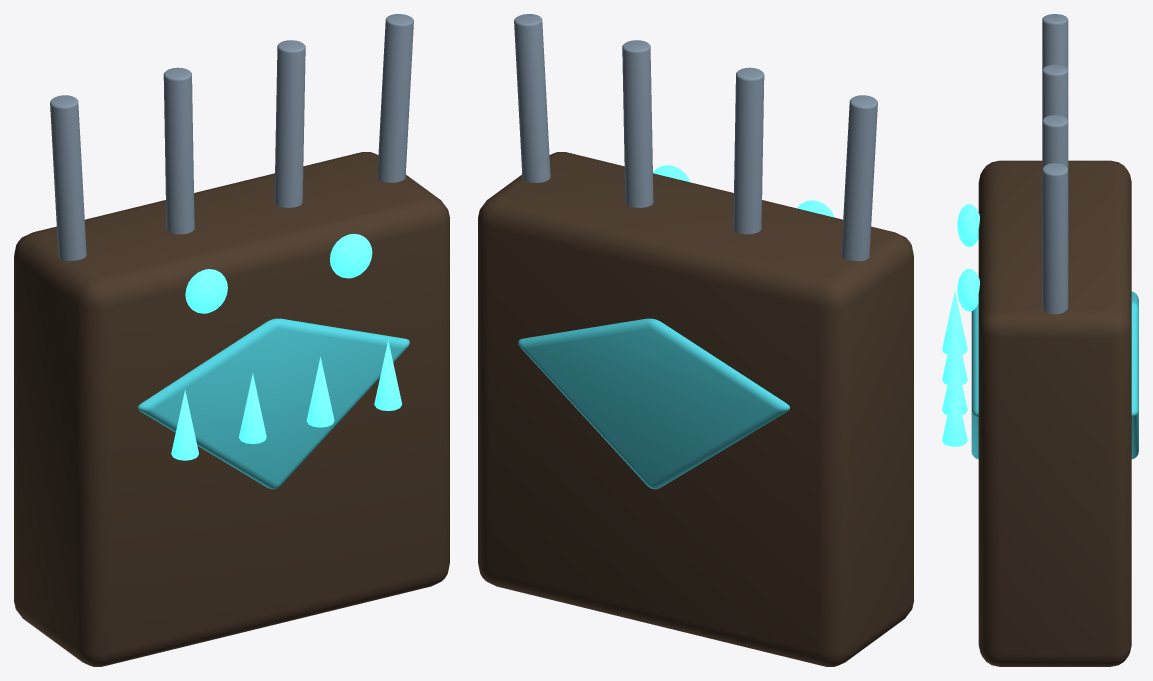
Rendered from mimic_v5.glb.
The picture shows the model from 3 angles, left to right: view 1: azimuth 30°, elevation 25°; view 2: azimuth 150°, elevation 25°; view 3: azimuth 270°, elevation 25°; orthographic projection. The views are drawn at different scales.
Visible parts, largest first — view 1: RACK_BODY_SECONDARY, RACK_MOUTH_ACCENT, FALSE_WEAPON_PRIMARY.003, FALSE_WEAPON_PRIMARY.002, FALSE_WEAPON_PRIMARY.001, FALSE_WEAPON_PRIMARY, EYE_EMISSIVE, EYE_EMISSIVE.001, RACK_TOOTH_EMISSIVE, RACK_TOOTH_EMISSIVE.001, RACK_TOOTH_EMISSIVE.002, RACK_TOOTH_EMISSIVE.003; view 2: RACK_BODY_SECONDARY, RACK_MOUTH_ACCENT, FALSE_WEAPON_PRIMARY.003, FALSE_WEAPON_PRIMARY.002, FALSE_WEAPON_PRIMARY.001, FALSE_WEAPON_PRIMARY; view 3: RACK_BODY_SECONDARY, FALSE_WEAPON_PRIMARY.003, RACK_MOUTH_ACCENT, FALSE_WEAPON_PRIMARY.001, FALSE_WEAPON_PRIMARY, FALSE_WEAPON_PRIMARY.002, RACK_TOOTH_EMISSIVE.003, EYE_EMISSIVE.001, EYE_EMISSIVE, RACK_TOOTH_EMISSIVE, RACK_TOOTH_EMISSIVE.002, RACK_TOOTH_EMISSIVE.001.
Boxes of the visible parts, x1,y1,x2,y2 form: RACK_BODY_SECONDARY: [14, 152, 449, 666]; RACK_MOUTH_ACCENT: [138, 318, 409, 489]; FALSE_WEAPON_PRIMARY.003: [377, 14, 413, 182]; FALSE_WEAPON_PRIMARY.002: [274, 40, 305, 207]; FALSE_WEAPON_PRIMARY.001: [163, 67, 194, 234]; FALSE_WEAPON_PRIMARY: [50, 95, 86, 261]; EYE_EMISSIVE: [185, 269, 227, 313]; EYE_EMISSIVE.001: [330, 233, 372, 278]; RACK_TOOTH_EMISSIVE: [171, 389, 198, 460]; RACK_TOOTH_EMISSIVE.001: [239, 373, 266, 444]; RACK_TOOTH_EMISSIVE.002: [306, 357, 334, 427]; RACK_TOOTH_EMISSIVE.003: [374, 340, 401, 410]; RACK_BODY_SECONDARY: [478, 152, 913, 666]; RACK_MOUTH_ACCENT: [518, 318, 789, 489]; FALSE_WEAPON_PRIMARY.003: [514, 14, 550, 182]; FALSE_WEAPON_PRIMARY.002: [622, 40, 653, 207]; FALSE_WEAPON_PRIMARY.001: [733, 67, 764, 234]; FALSE_WEAPON_PRIMARY: [841, 95, 877, 261]; RACK_BODY_SECONDARY: [978, 160, 1131, 666]; FALSE_WEAPON_PRIMARY.003: [1042, 163, 1068, 314]; RACK_MOUTH_ACCENT: [971, 291, 1138, 459]; FALSE_WEAPON_PRIMARY.001: [1042, 64, 1068, 120]; FALSE_WEAPON_PRIMARY: [1042, 14, 1068, 69]; FALSE_WEAPON_PRIMARY.002: [1042, 115, 1068, 168]; RACK_TOOTH_EMISSIVE.003: [942, 382, 967, 446]; EYE_EMISSIVE.001: [957, 268, 979, 311]; EYE_EMISSIVE: [957, 204, 979, 246]; RACK_TOOTH_EMISSIVE: [942, 291, 967, 354]; RACK_TOOTH_EMISSIVE.002: [942, 351, 967, 414]; RACK_TOOTH_EMISSIVE.001: [942, 321, 967, 384].
Bounding box in the file's own units: 1.64 × 2.3 × 0.8235.
